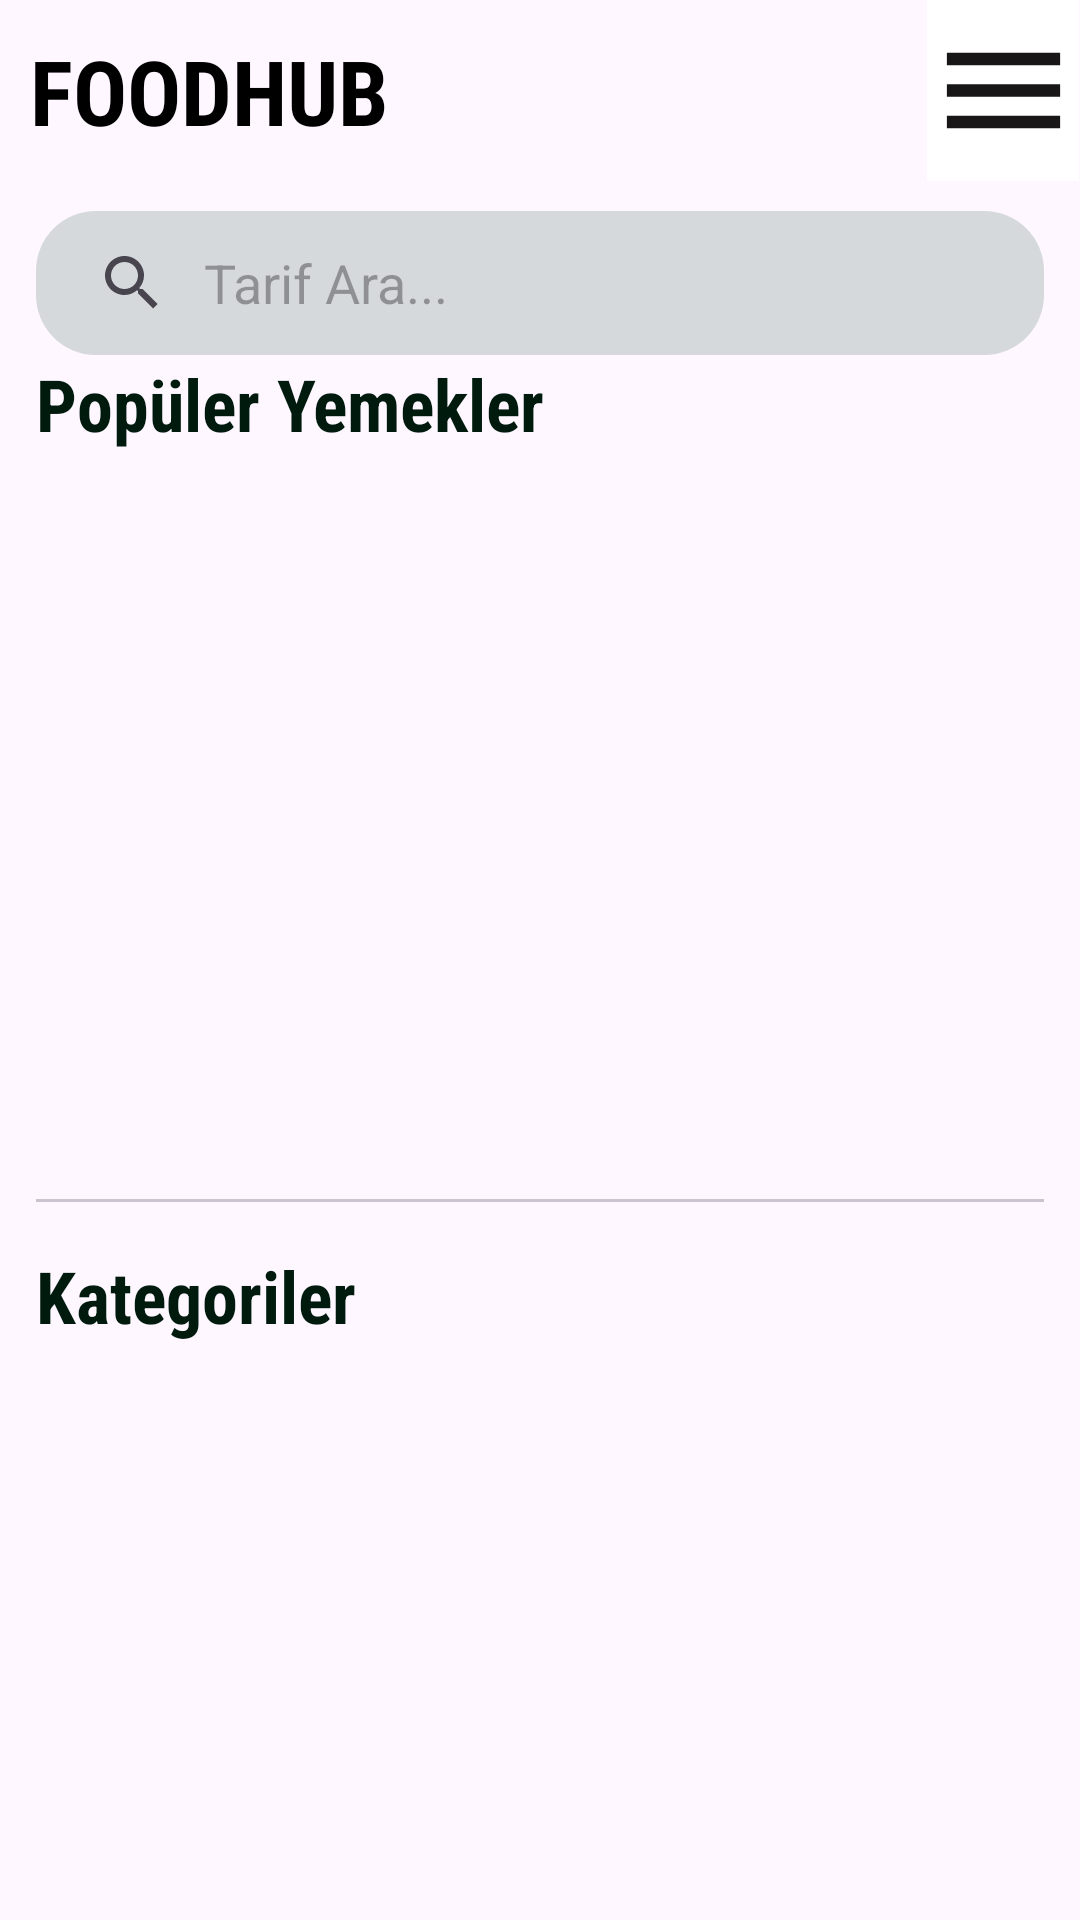

Screen size 1080x1920. Icon name, then its center in pixels as (x,y):
MENU: (1003,90)
